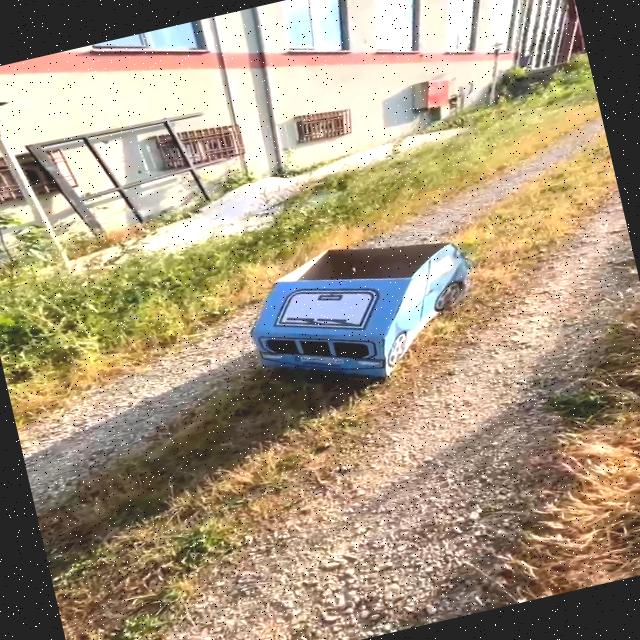blue_car: (142, 181, 547, 433)
